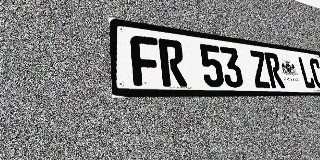3: (219, 46, 244, 88)
5: (199, 44, 225, 87)
C: (308, 58, 320, 89)
F: (130, 35, 162, 86)
L: (297, 56, 316, 89)
R: (158, 38, 187, 87), (264, 52, 285, 88)
Z: (248, 50, 271, 88)
